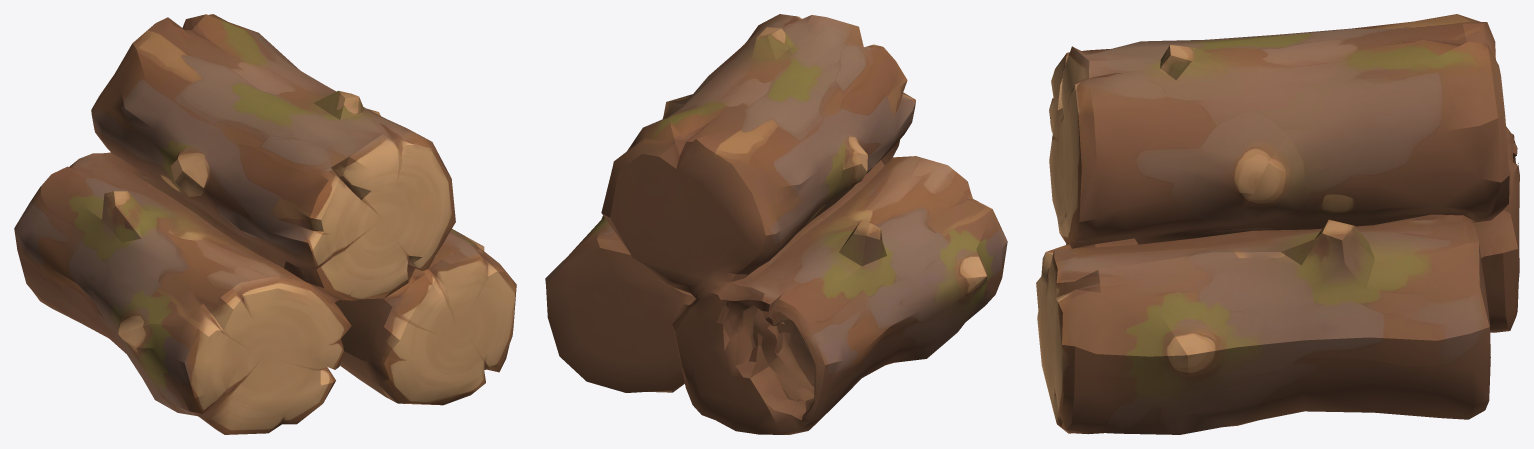
File: Manor_LogPile_01.glb
The picture shows the model from 3 angles, left to right: view 1: azimuth 30°, elevation 25°; view 2: azimuth 150°, elevation 25°; view 3: azimuth 270°, elevation 25°; orthographic projection. The views are drawn at different scales.
Parts seen in each view (by area): view 1: Manor_LogPile_01.001; view 2: Manor_LogPile_01.001; view 3: Manor_LogPile_01.001.
Part boxes in pixels (box(x1,y1,x2,y2)): Manor_LogPile_01.001: box(14, 14, 516, 434); Manor_LogPile_01.001: box(545, 14, 1007, 434); Manor_LogPile_01.001: box(1036, 14, 1519, 434).
Bounding box in the file's own units: 1 × 0.7554 × 0.9678.
1 material, 1 textured.
